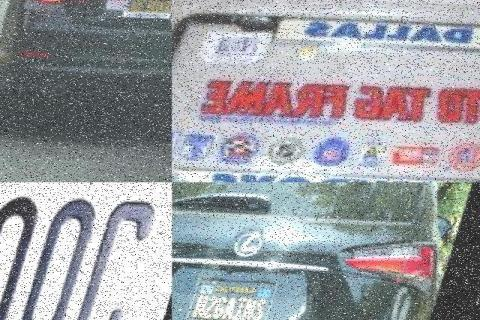LicensePlate: (172, 44, 480, 164), (0, 182, 168, 320), (185, 273, 282, 320), (122, 0, 172, 26)
